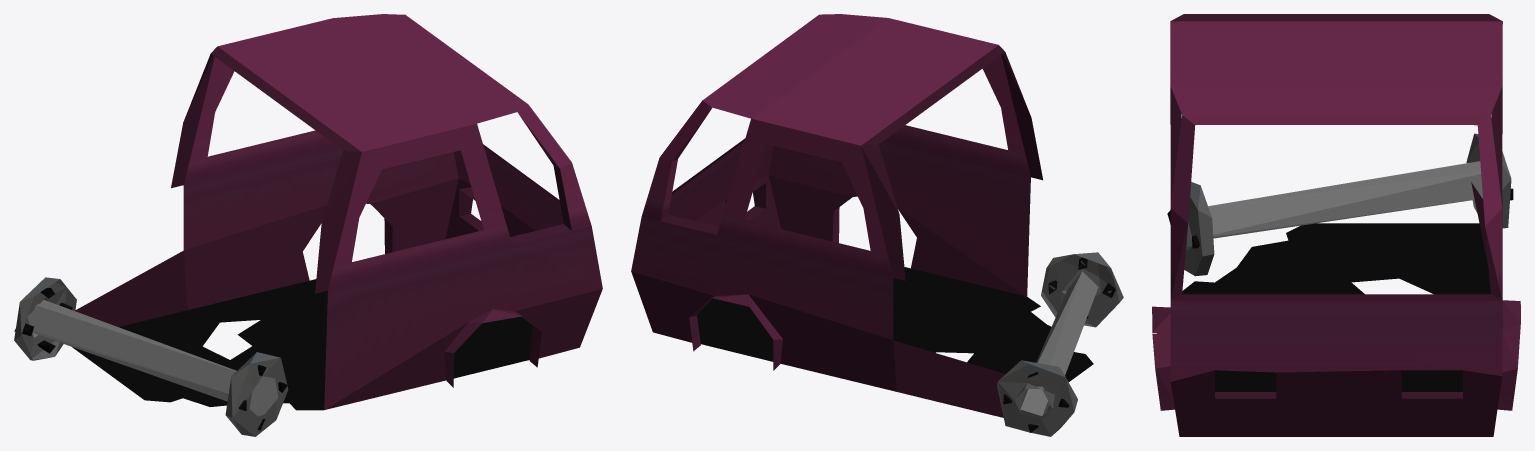
Rendered from Carro2.glb.
The picture shows the model from 3 angles, left to right: view 1: azimuth 30°, elevation 25°; view 2: azimuth 150°, elevation 25°; view 3: azimuth 270°, elevation 25°; orthographic projection. The views are drawn at different scales.
Visible parts, largest first — view 1: Carro2; view 2: Carro2; view 3: Carro2.
Part boxes in pixels (x1=…): Carro2: x1=14, y1=14, x2=602, y2=436; Carro2: x1=631, y1=14, x2=1123, y2=436; Carro2: x1=1152, y1=14, x2=1520, y2=436.
Bounding box in the file's own units: 3.64 × 2.02 × 2.22.
Materials: 1 (1 with a texture image).
